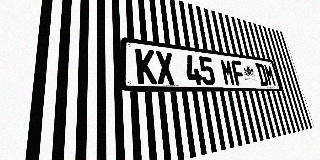4: (184, 54, 203, 85)
5: (198, 56, 216, 85)
D: (255, 63, 269, 86)
F: (231, 60, 246, 86)
K: (135, 48, 157, 84)
M: (219, 59, 236, 86), (263, 64, 277, 86)
X: (155, 51, 176, 85)
